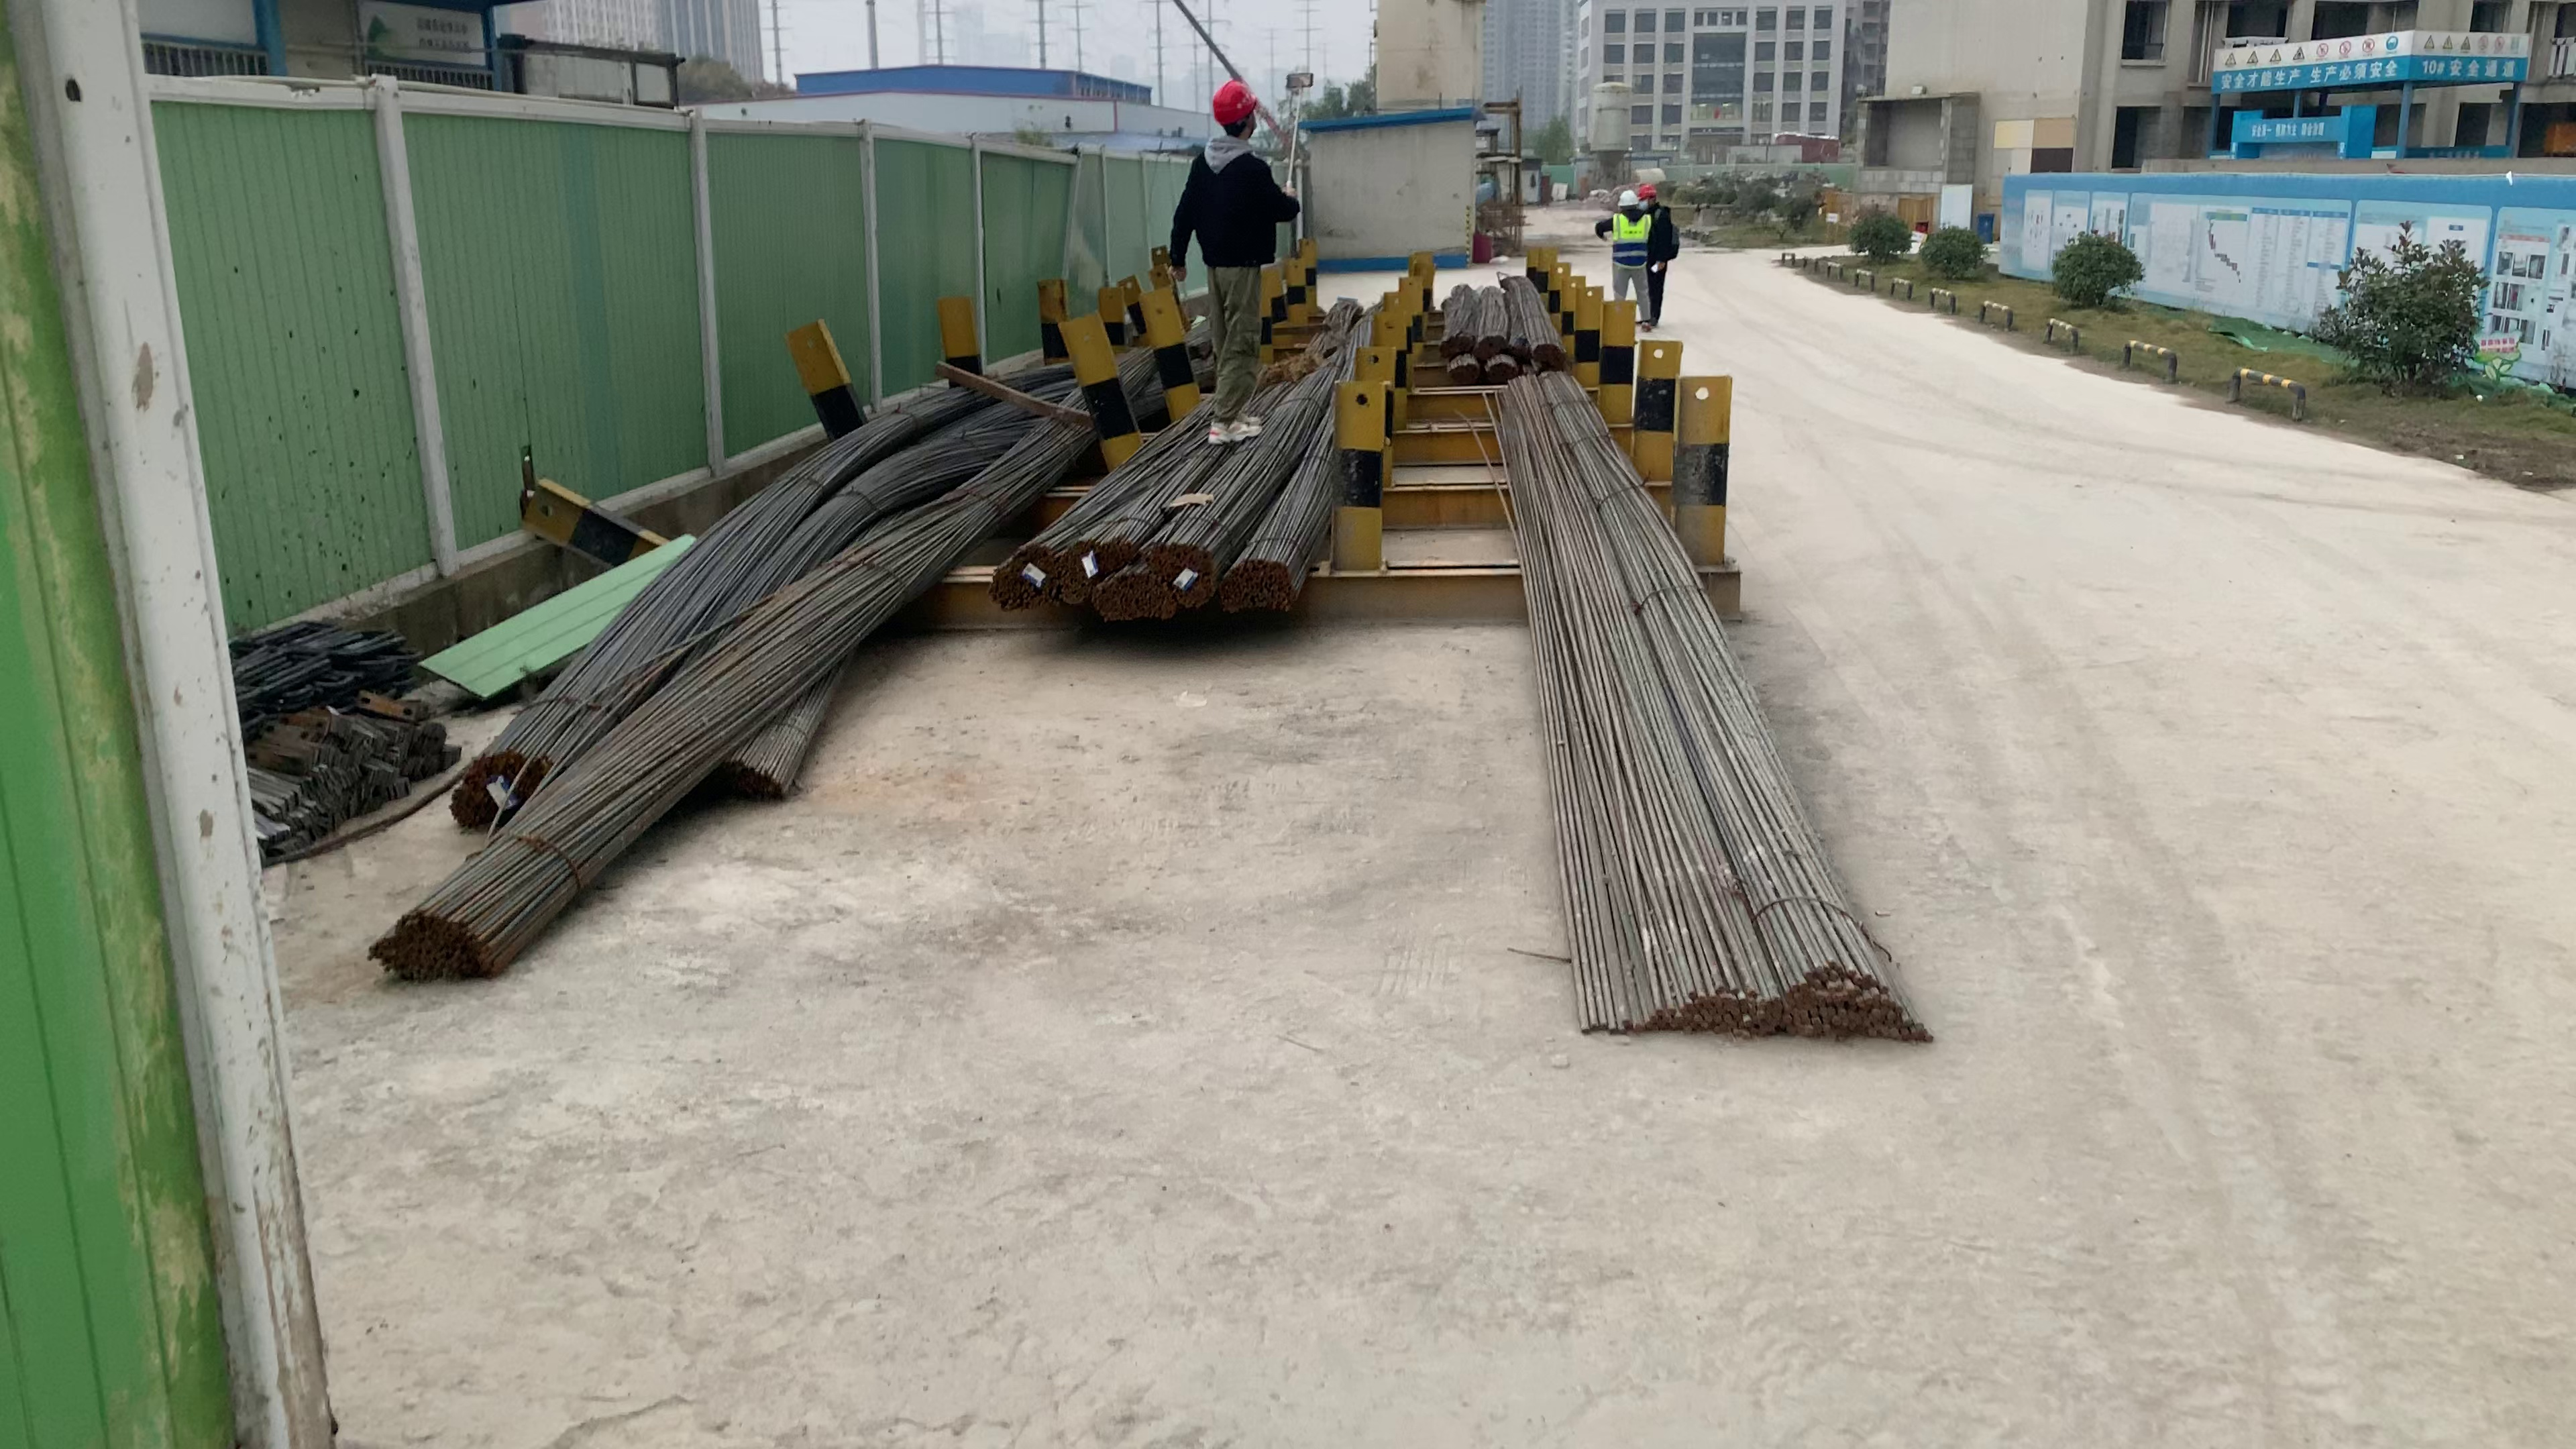rebar: (1575, 952, 1932, 1049), (372, 908, 499, 978), (442, 761, 550, 826), (1141, 525, 1207, 603), (702, 750, 789, 809), (998, 543, 1058, 621), (1060, 533, 1127, 600), (1219, 563, 1293, 619), (1095, 571, 1168, 621), (1530, 338, 1568, 366), (1442, 356, 1479, 380), (1488, 361, 1520, 387), (1442, 326, 1470, 350), (1481, 329, 1509, 350)
